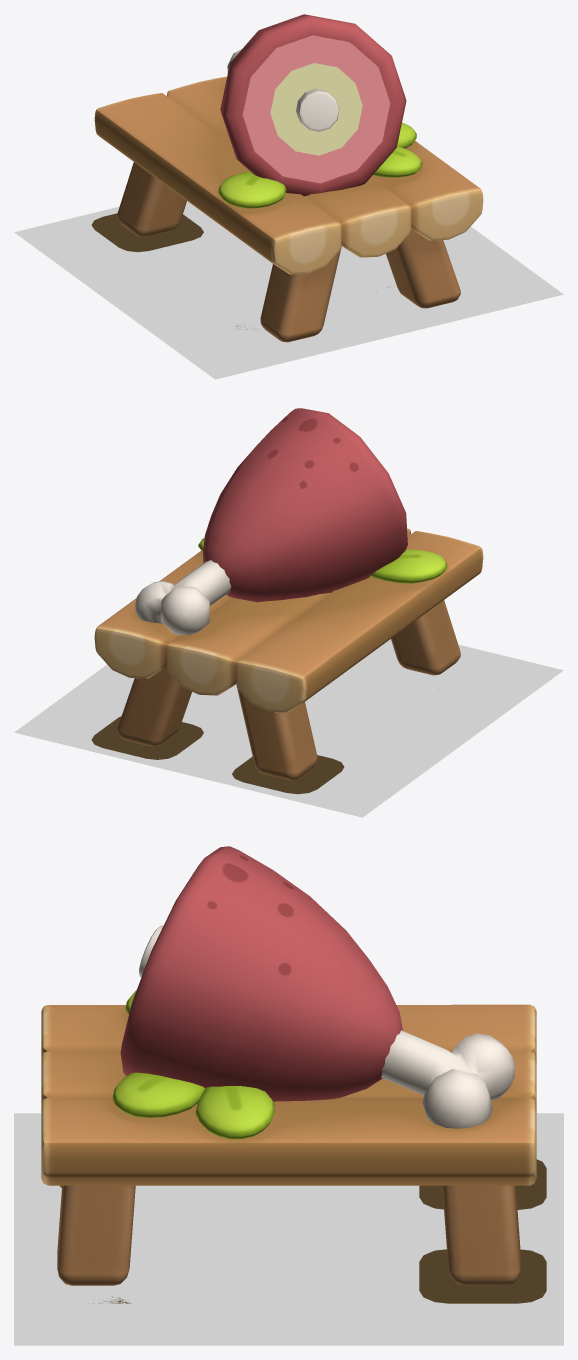
The model's file is VK_MeatTable.fbx.
3 renders of one model, top to bottom at view 1: azimuth 30°, elevation 25°; view 2: azimuth 150°, elevation 25°; view 3: azimuth 270°, elevation 25°, orthographic. The views are drawn at different scales.
Parts seen in each view (by area): view 1: polySurface13, MeatTable_Grid_Large, polySurface18, MeatTable_Grid, Shadow; view 2: polySurface13, polySurface18, MeatTable_Grid_Large, MeatTable_Grid, Shadow; view 3: polySurface13, polySurface18, MeatTable_Grid_Large, MeatTable_Grid, Shadow.
Part boxes in pixels (<box>): polySurface13: <box>94,76,483,342</box>; MeatTable_Grid_Large: <box>14,201,563,379</box>; polySurface18: <box>218,14,422,208</box>; MeatTable_Grid: <box>154,229,385,321</box>; Shadow: <box>91,213,390,329</box>; polySurface13: <box>94,528,483,780</box>; polySurface18: <box>135,408,447,635</box>; MeatTable_Grid_Large: <box>14,639,563,817</box>; MeatTable_Grid: <box>182,667,425,757</box>; Shadow: <box>91,716,344,794</box>; polySurface13: <box>41,1004,536,1285</box>; polySurface18: <box>112,846,514,1139</box>; MeatTable_Grid_Large: <box>14,1113,563,1345</box>; MeatTable_Grid: <box>151,1185,426,1287</box>; Shadow: <box>100,1159,546,1303</box>.
Size of the model in its own units: 2 by 1.48 by 2.
